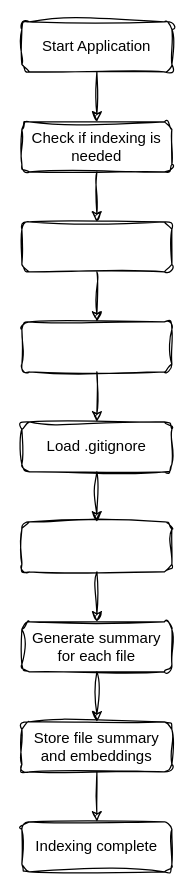
Some shapes in this 194 by 894 pixel diagram are drawn without their labels. Each missing label, with the box of its shape:
Reset context DB: (21, 321, 172, 372)
Start indexing: (21, 221, 172, 272)
Walk through project directory: (21, 521, 172, 572)
